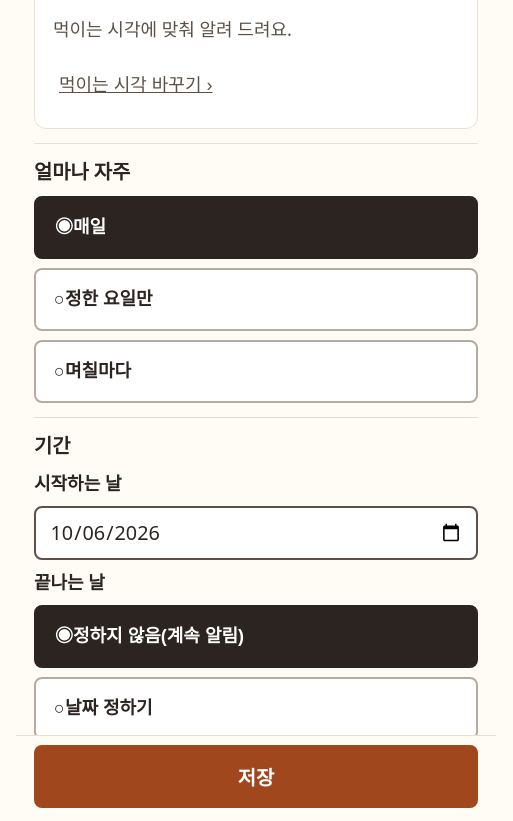
Test case: 알림 설정 — 저장 › 며칠마다: intervalDays 만 보내고, 이 기기에서 못 받으면 그 사실을 알린다
The image size is (513, 821).
(page scrolled)
Click the radio button labelled "○ 며칠마다". click: (98, 371)
box: x1=34 y1=340 x2=478 y2=403
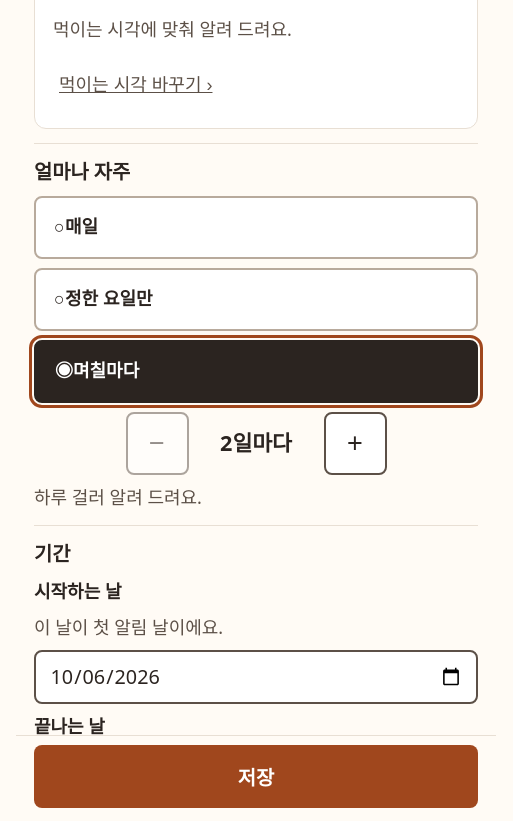
Expected: the text "하루 걸러 알려 드려요." is shown, x1=34 y1=485 x2=202 y2=509
Expected: the button named "하루 줄이기" is disabled, x1=126 y1=412 x2=188 y2=475
Click the button named "하루 늘리기". click: (355, 444)
box: x1=324 y1=412 x2=386 y2=475
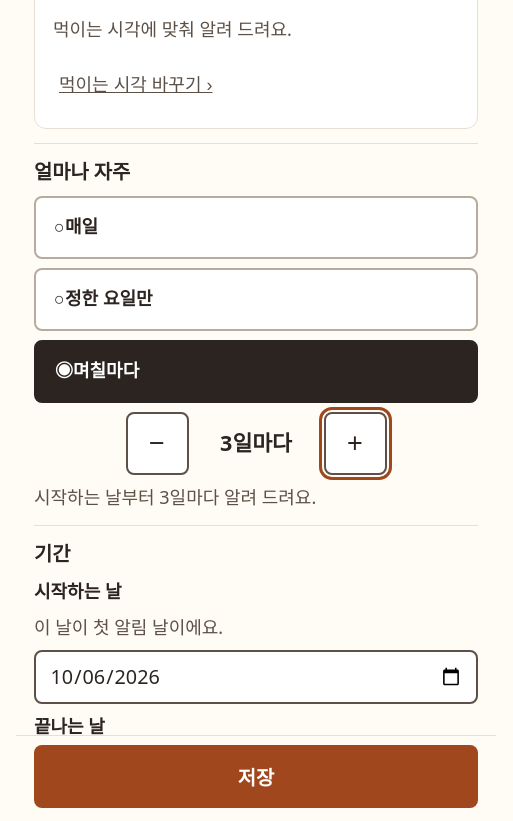
Click the button "저장". click: (256, 776)
box: x1=34 y1=744 x2=478 y2=808
(page scrolled)
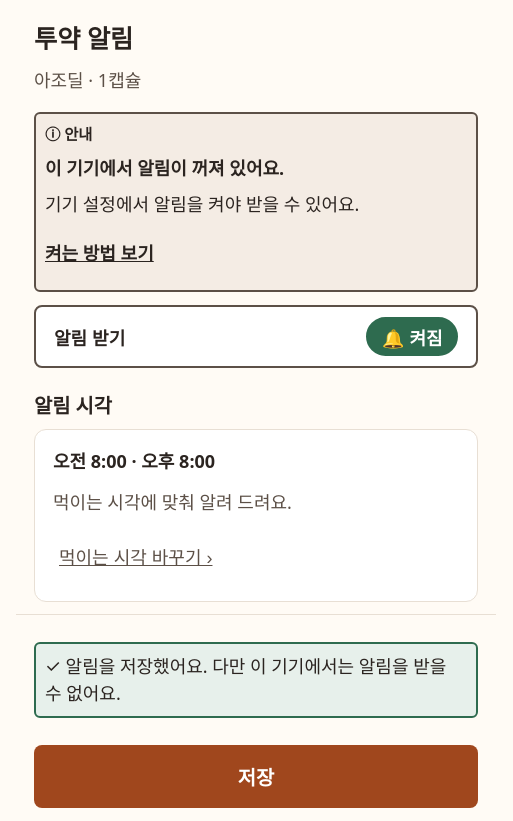
Expected: the text "이 기기에서 알림이 꺼져 있어요." is shown, x1=45 y1=156 x2=284 y2=180
Expected: the text "알림을 저장했어요. 다만 이 기기에서는 알림을 받을 수 없어요." is shown, x1=34 y1=642 x2=478 y2=718
